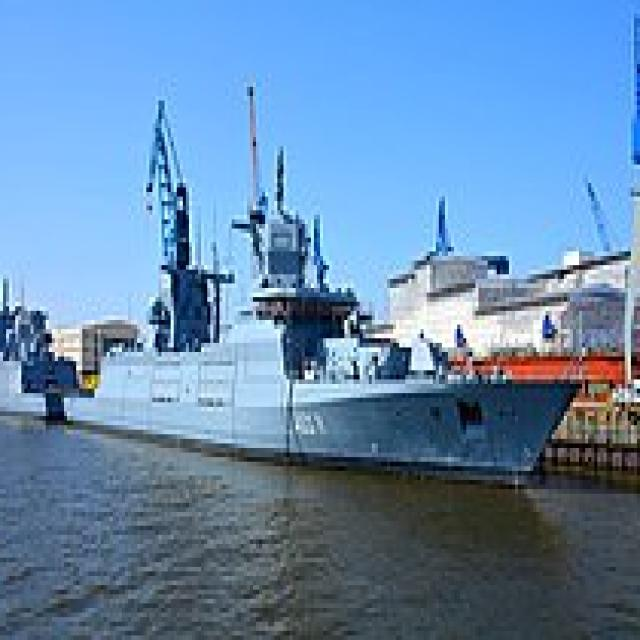Warship: (61, 142, 591, 484)
